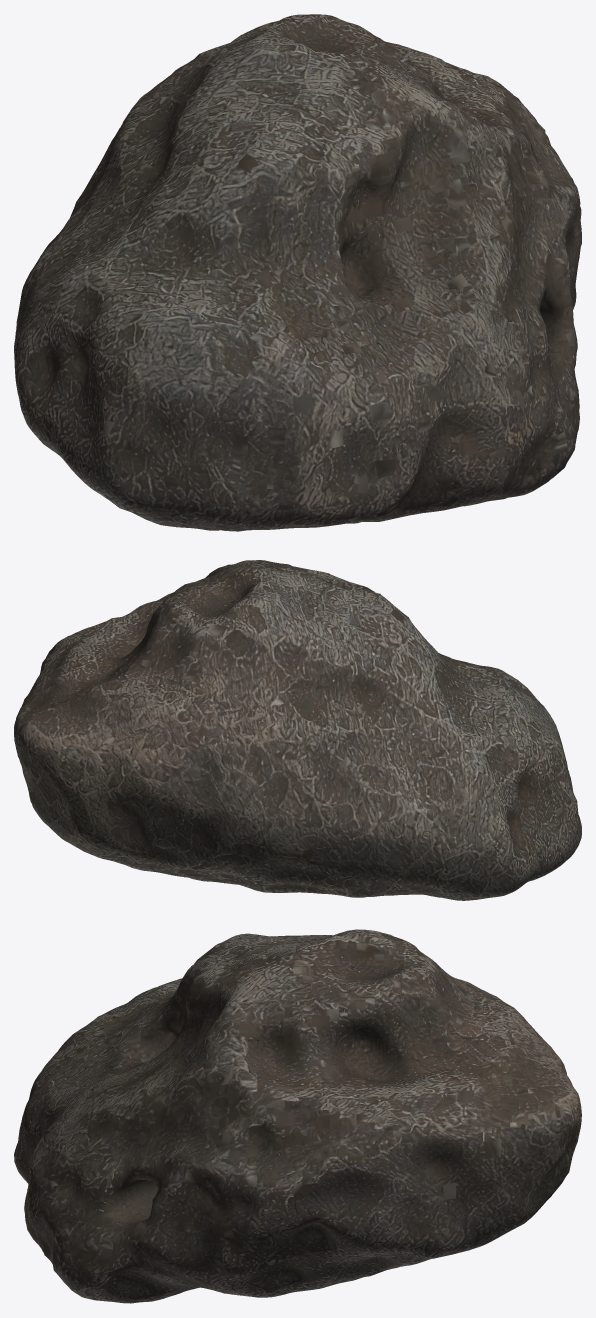
Rendered from asteroid_common_4.remesh.glb.
The picture shows the model from 3 angles, top to bottom: view 1: azimuth 30°, elevation 25°; view 2: azimuth 150°, elevation 25°; view 3: azimuth 270°, elevation 25°; orthographic projection. The views are drawn at different scales.
Parts seen in each view (by area): view 1: model; view 2: model; view 3: model.
Boxes of the visible parts, x1,y1,x2,y2 form: model: [14, 14, 581, 531]; model: [14, 560, 581, 900]; model: [14, 929, 581, 1303].
Bounding box in the file's own units: 1.83 × 1.23 × 1.89.
Materials: 1 (1 with a texture image).
